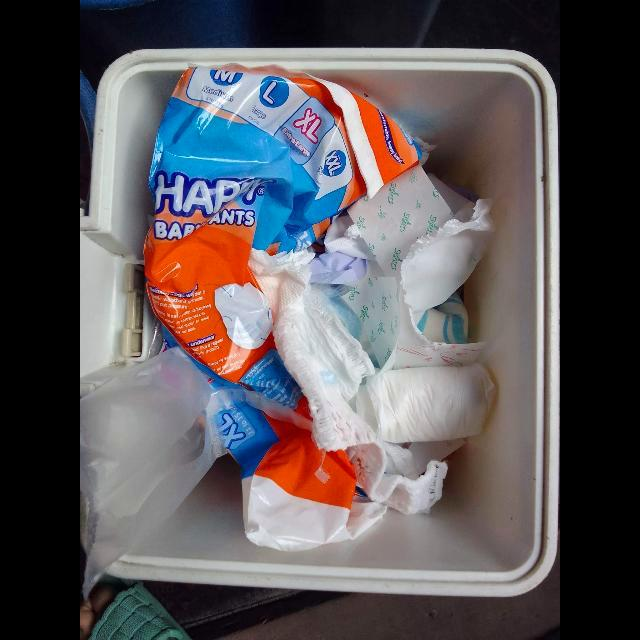paper: (251, 253, 449, 519), (356, 364, 493, 479), (397, 172, 492, 311), (349, 164, 459, 281), (386, 308, 492, 370), (345, 278, 402, 371), (415, 292, 472, 343), (324, 218, 383, 265)
plastic_bag: (140, 62, 419, 551), (80, 347, 218, 582)
